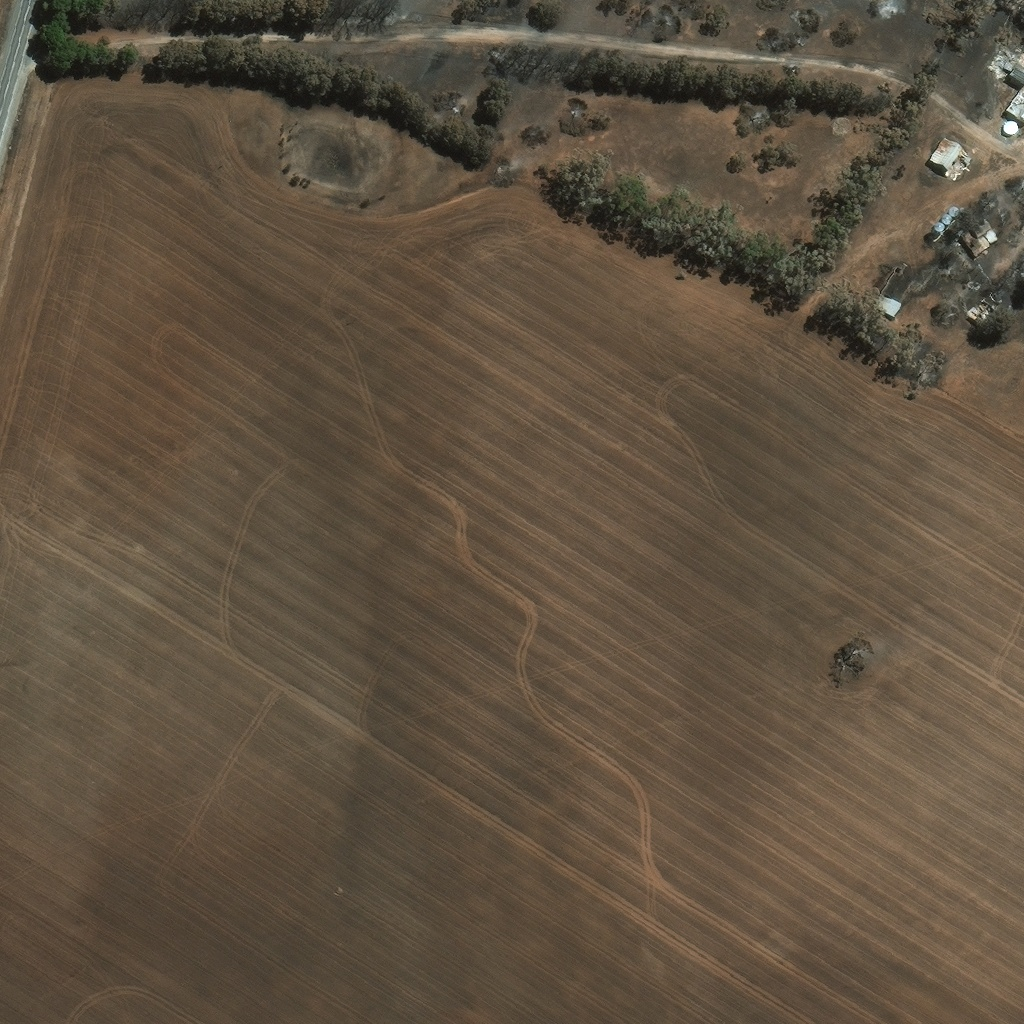0 no-damage: (872, 293, 902, 318), (1002, 123, 1017, 138), (946, 211, 958, 223), (931, 228, 944, 239), (939, 220, 951, 231)
2 major-damage: (989, 46, 1023, 125), (946, 217, 998, 259), (927, 137, 974, 182)
3 destroyed: (966, 301, 993, 326)
